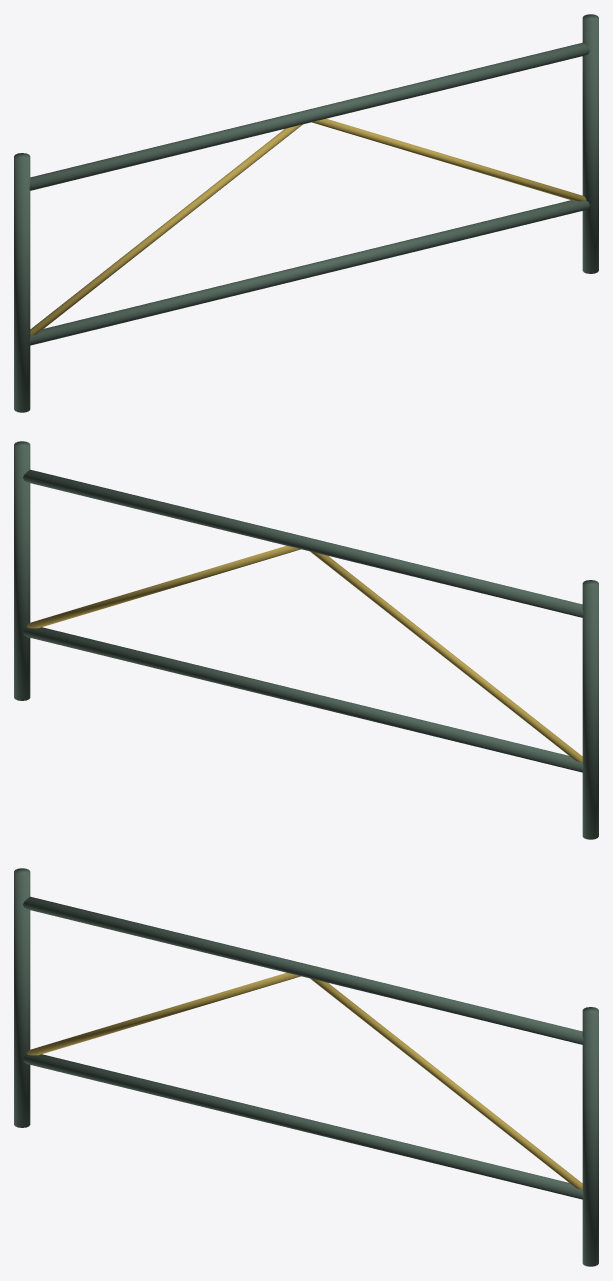
Rendered from SM_District_GardenFence_2m.fbx.
3 renders of one model, top to bottom at view 1: azimuth 30°, elevation 25°; view 2: azimuth 150°, elevation 25°; view 3: azimuth 330°, elevation 25°, orthographic.
Parts seen in each view (by area): view 1: SM_District_GardenFence_2m; view 2: SM_District_GardenFence_2m; view 3: SM_District_GardenFence_2m.
Boxes of the visible parts, x1,y1,x2,y2 form: SM_District_GardenFence_2m: (14, 14, 598, 412); SM_District_GardenFence_2m: (14, 441, 598, 839); SM_District_GardenFence_2m: (14, 868, 598, 1266).
Size of the model in its own units: 205 by 5 by 85.
